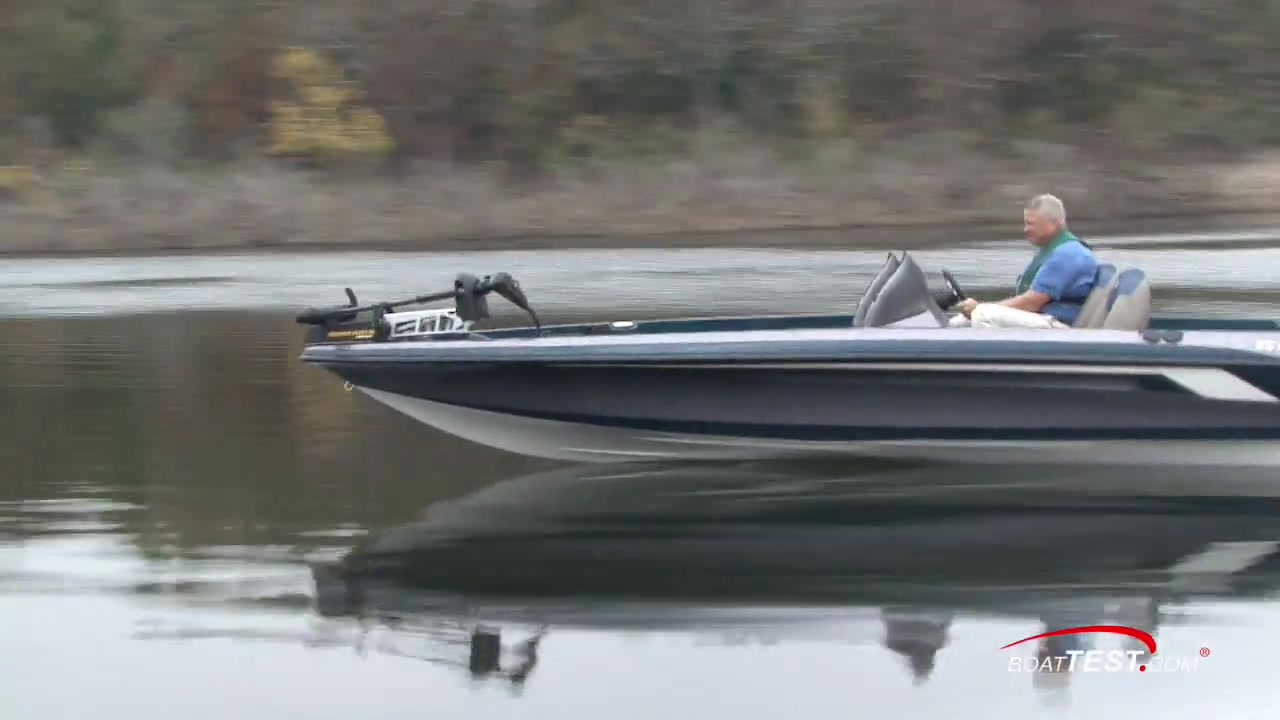boat: (299, 246, 1280, 474)
